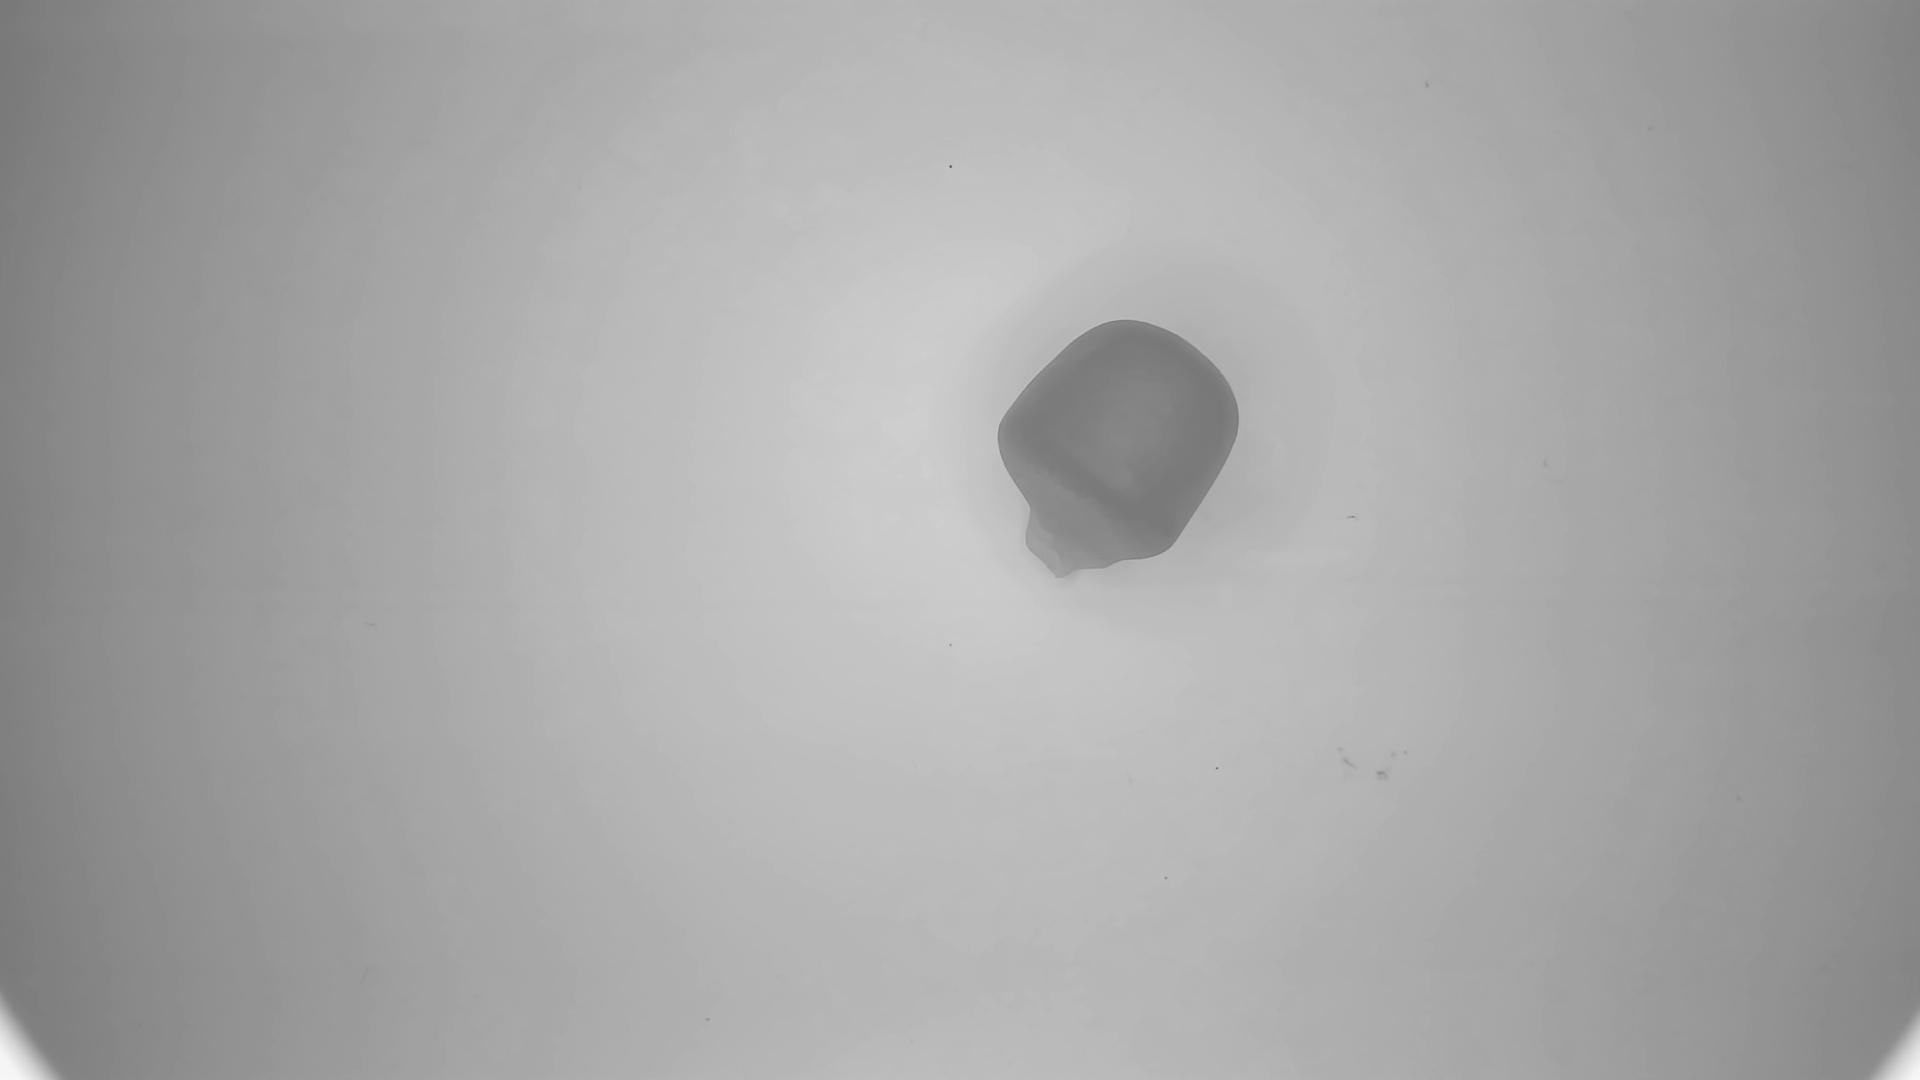abnormal: (996, 318, 1241, 582)
